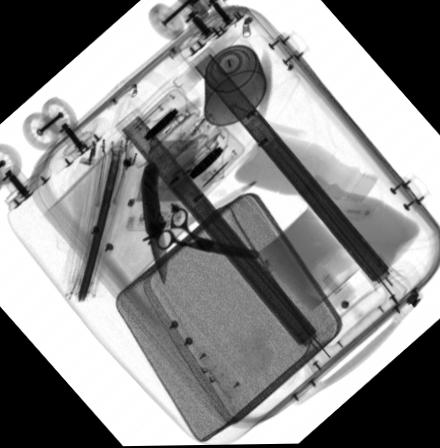Knife: (140, 164, 167, 289)
Powerbank: (123, 134, 202, 232)
Scissors: (140, 202, 260, 260)
Sprayer: (203, 37, 266, 127)
